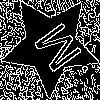M: (25, 20, 83, 81)
